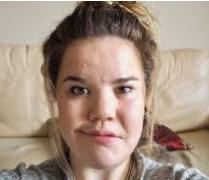strokeEyeWeak: (63, 74, 140, 100)
strokeMouthWeak: (74, 126, 123, 150)
